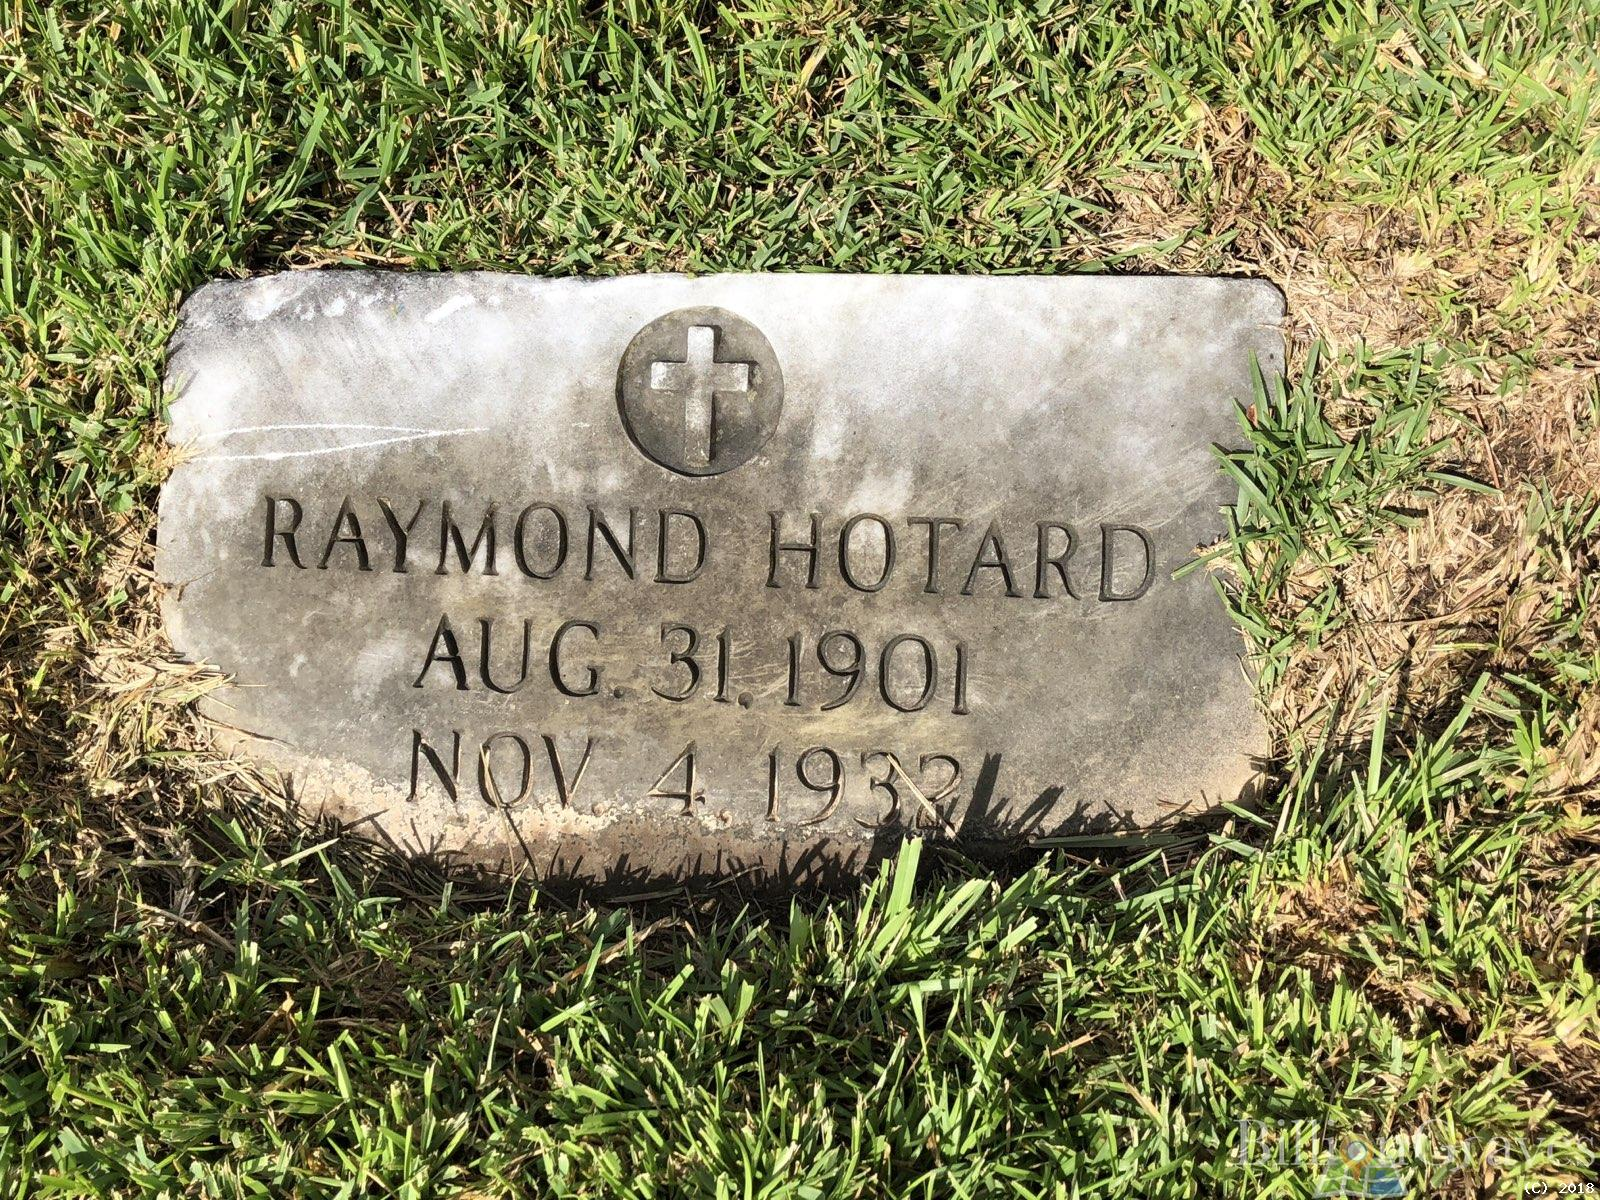flat: (144, 255, 1293, 891)
